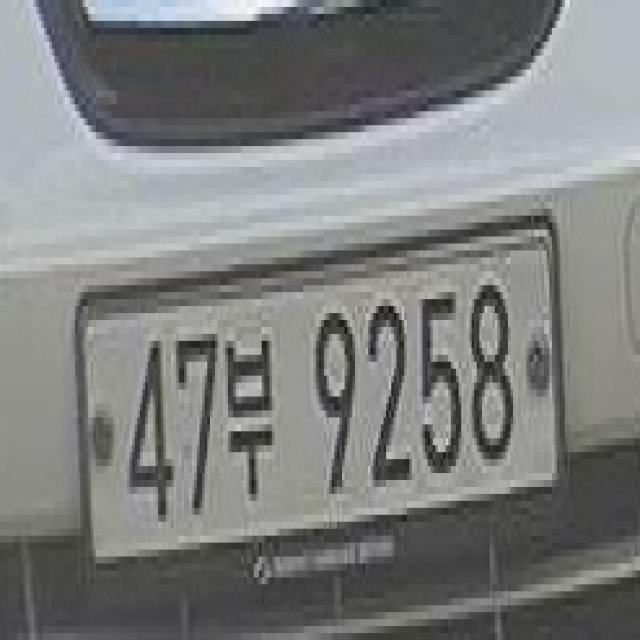2: (363, 290, 414, 502)
4: (118, 326, 176, 552)
5: (419, 286, 462, 497)
7: (176, 325, 220, 541)
8: (470, 278, 518, 491)
9: (311, 304, 358, 511)
bu: (223, 324, 278, 524)
license_plate: (66, 181, 586, 612)
